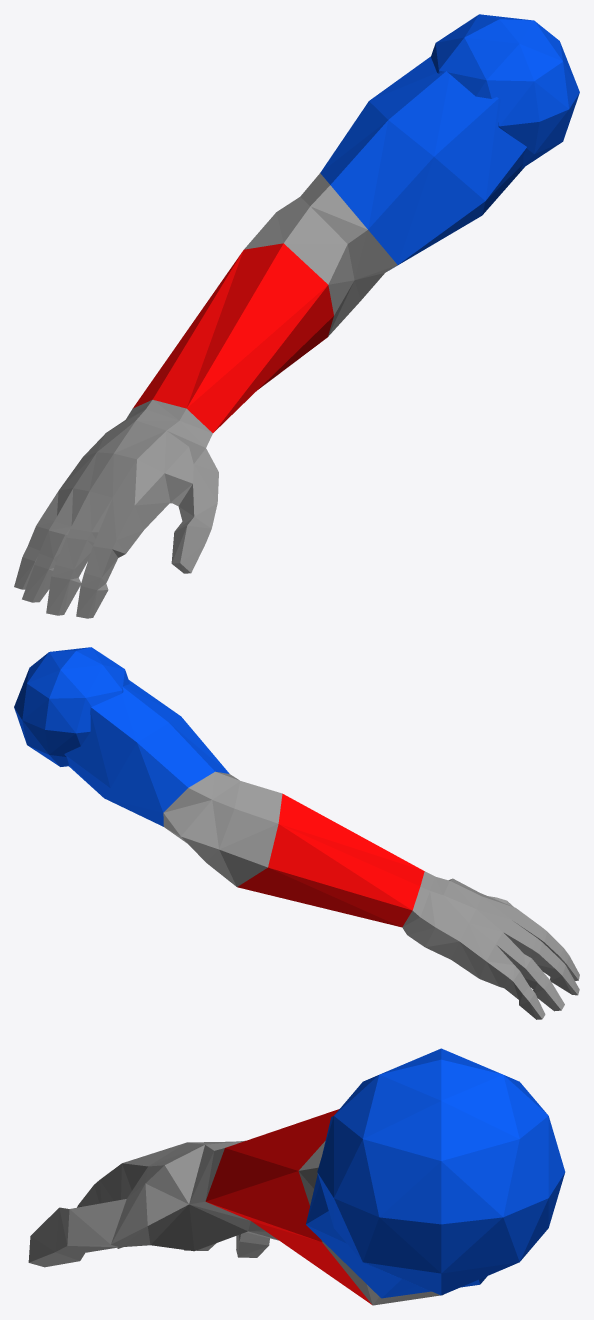
Rendered from SpaceArm.FBX.
3 renders of one model, top to bottom at view 1: azimuth 30°, elevation 25°; view 2: azimuth 150°, elevation 25°; view 3: azimuth 270°, elevation 25°, orthographic. The views are drawn at different scales.
Parts seen in each view (by area): view 1: ARM; view 2: ARM; view 3: ARM.
Part boxes in pixels (x1=…): ARM: x1=14, y1=14, x2=579, y2=618; ARM: x1=14, y1=647, x2=579, y2=1019; ARM: x1=28, y1=1048, x2=565, y2=1305.
Size of the model in its own units: 27.7 by 16.62 by 13.4.
